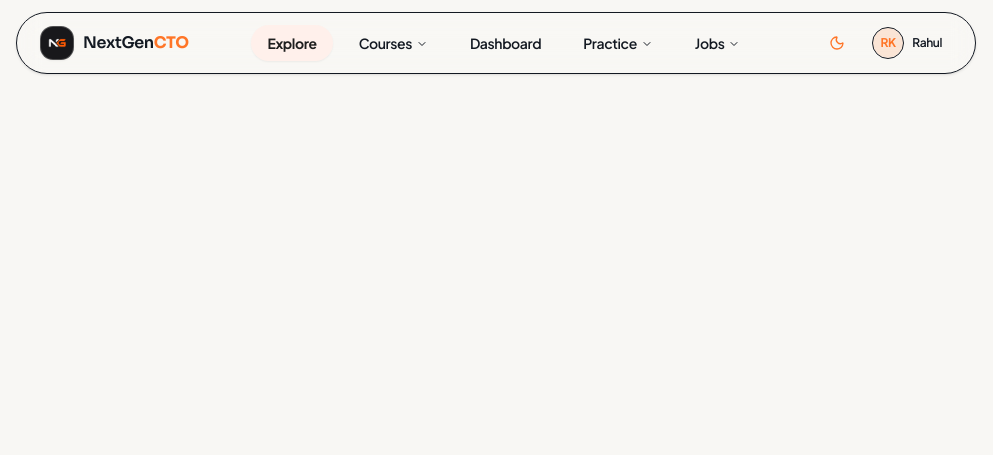
Scenario: StudentLandingNavbar (Explore header) auth UI states › opens the profile menu when an authenticated user hovers the profile control
This screenshot has width=993, height=455.
Expected: the menu item "profile" is not shown
Hover over the button "RK Rahul" at (909, 43), box [867,25,951,61]
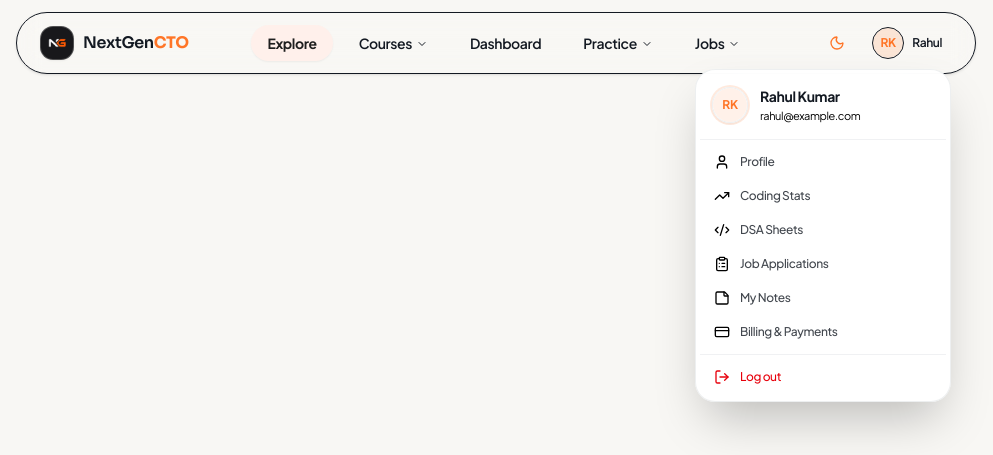
Expected: the menu item "Profile" is shown, [714,154,774,170]
Expected: the menu item "Coding Stats" is shown, [714,188,810,204]
Expected: the menu item "Log out" is shown, [714,368,781,384]
